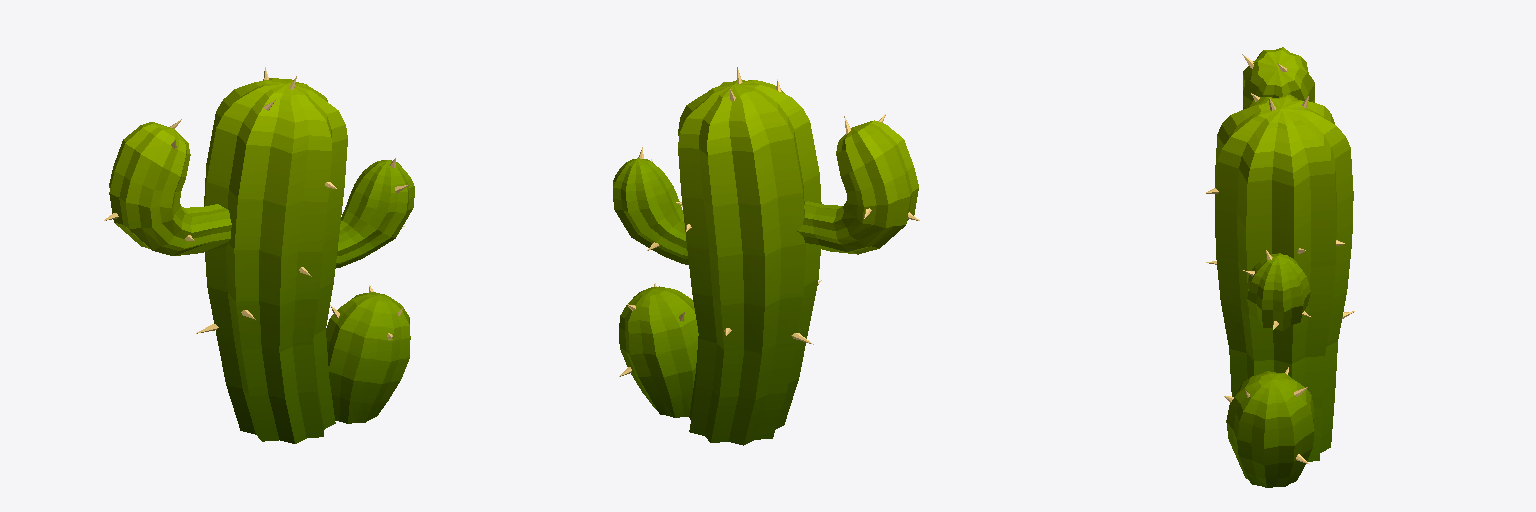
3 renders of one model, left to right at view 1: azimuth 30°, elevation 25°; view 2: azimuth 150°, elevation 25°; view 3: azimuth 270°, elevation 25°, orthographic.
Parts seen in each view (by area): view 1: Plant_Cactus_02; view 2: Plant_Cactus_02; view 3: Plant_Cactus_02.
Boxes of the visible parts, <box> form: Plant_Cactus_02: <box>104,67,414,443</box>; Plant_Cactus_02: <box>613,67,919,445</box>; Plant_Cactus_02: <box>1206,47,1354,487</box>.
Bounding box in the file's own units: 1.21 × 1.33 × 0.522.
Materials: 1 (1 with a texture image).